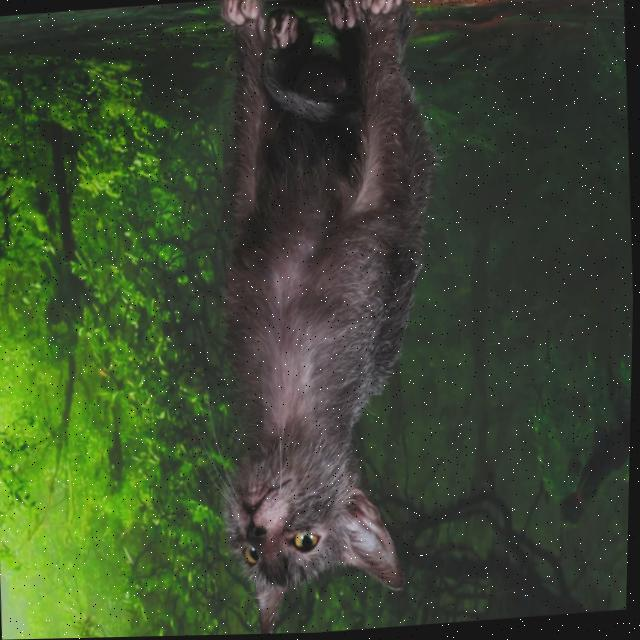Lykoi: (193, 0, 464, 636)
